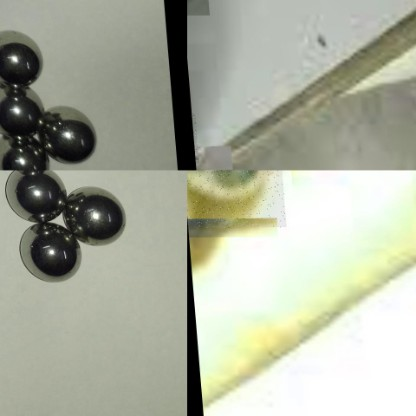ironball: (187, 170, 282, 227), (59, 179, 129, 245), (14, 219, 81, 282), (41, 100, 101, 161), (0, 170, 67, 221), (0, 81, 43, 140), (0, 32, 43, 81), (0, 133, 49, 170)
